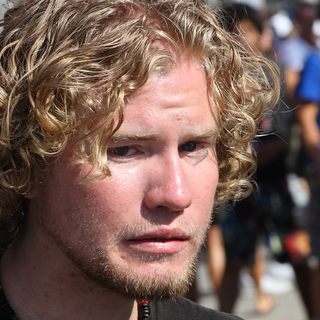eye: (94, 136, 150, 164), (176, 134, 210, 161)
